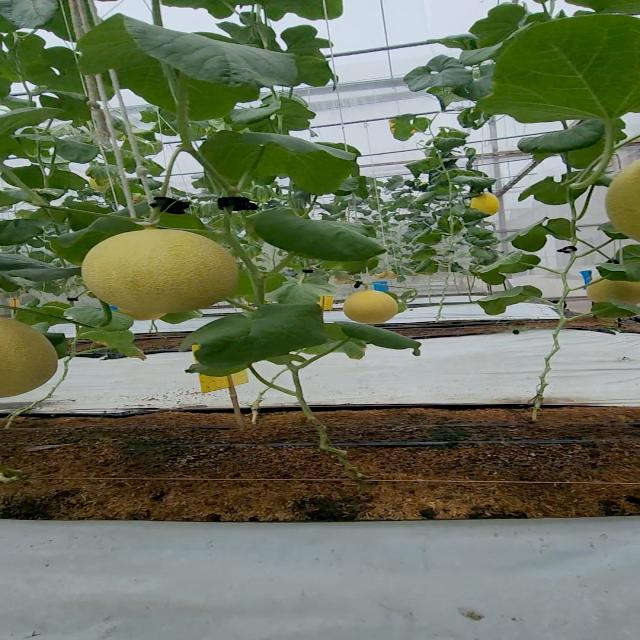Front-melon: (81, 230, 241, 316), (0, 318, 55, 397)
Rear-melon: (350, 292, 397, 325)
